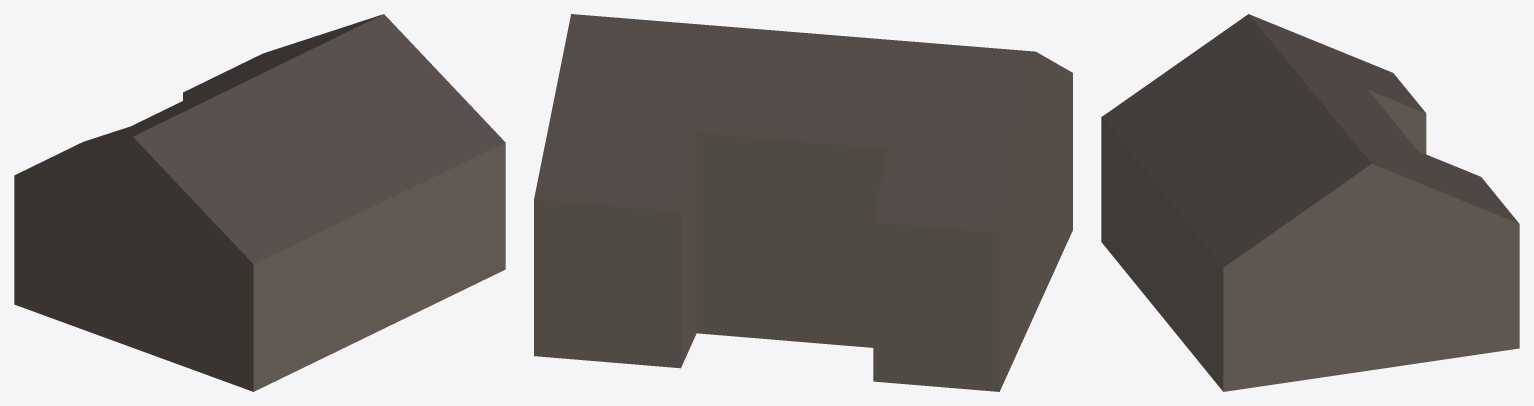
The picture shows the model from 3 angles, left to right: view 1: azimuth 30°, elevation 25°; view 2: azimuth 150°, elevation 25°; view 3: azimuth 270°, elevation 25°; orthographic projection. The views are drawn at different scales.
Parts seen in each view (by area): view 1: HP-w1198645081; view 2: HP-w1198645081; view 3: HP-w1198645081.
Boxes of the visible parts, x1,y1,x2,y2 form: HP-w1198645081: (14, 14, 505, 391); HP-w1198645081: (534, 14, 1072, 391); HP-w1198645081: (1101, 14, 1519, 391).
Size of the model in its own units: 19.98 by 9.97 by 18.32.
